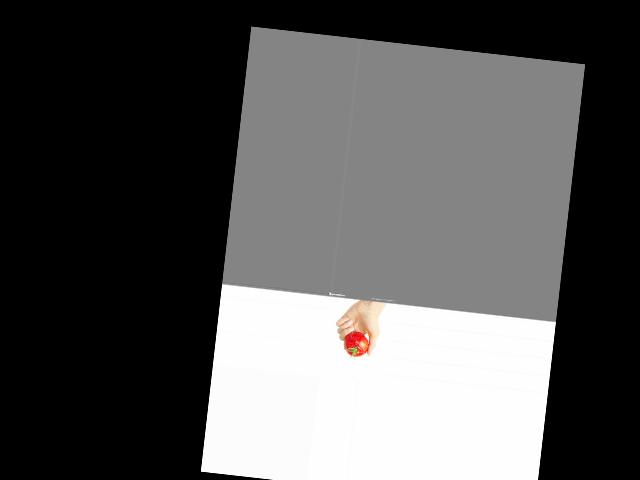tomato: (343, 330, 370, 358)
